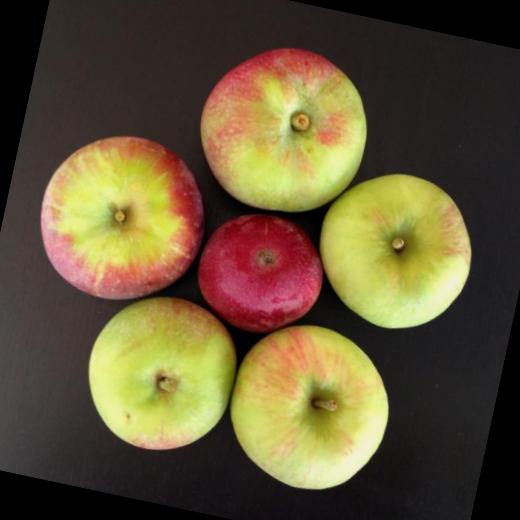Apple: (25, 119, 224, 318), (190, 34, 382, 230), (217, 310, 406, 504), (304, 157, 488, 344), (70, 282, 250, 465), (187, 199, 335, 346)
